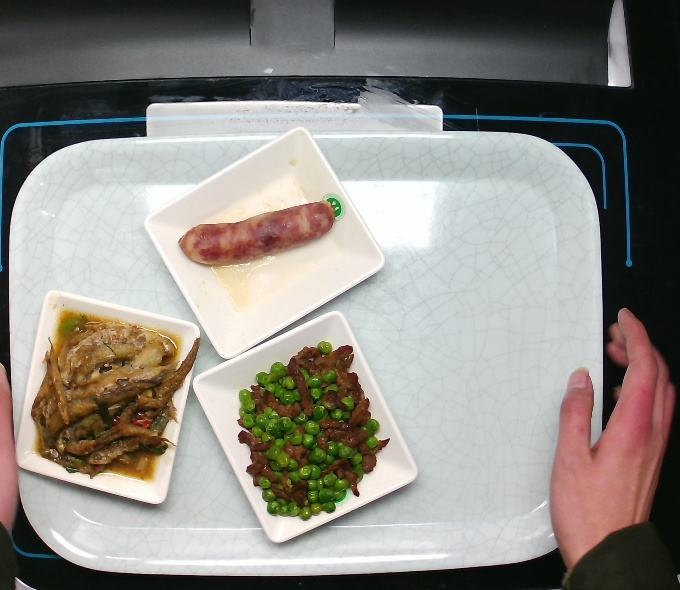wcq-CanDouNiuRou: (230, 324, 393, 527)
wcq-XiangChang: (172, 183, 341, 276)
wcq-XiaoJiYu: (29, 301, 210, 486)
